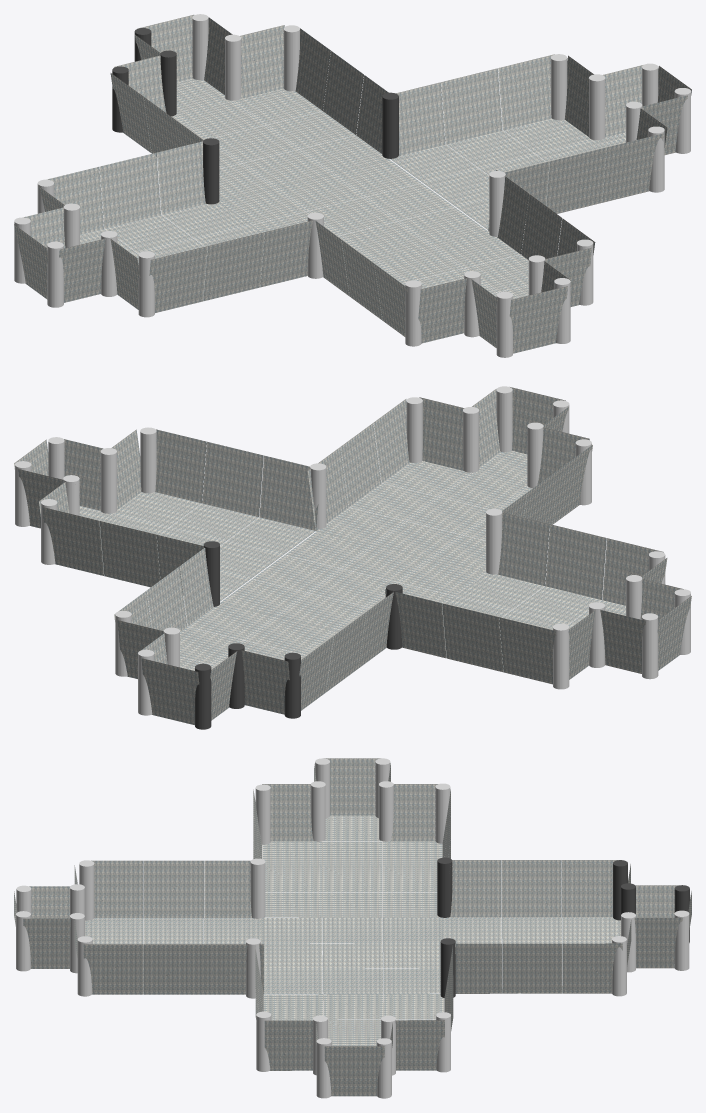
File: map1-convcol.glb
3 views of the same model, one above another, from view 1: azimuth 30°, elevation 25°; view 2: azimuth 150°, elevation 25°; view 3: azimuth 270°, elevation 25° (orthographic). The views are drawn at different scales.
Parts seen in each view (by area): view 1: Plane.069, Plane.019, Plane.071, Plane.018, Plane.068, Plane.016, Plane.021, Plane.070, Plane.058, Plane.030, Plane.067, Plane.017 (+84 smaller); view 2: Plane.018, Plane.068, Plane.066, Plane.019, Plane.067, Plane.069, Plane.017, Plane.071, Plane.020, Plane.047, Plane.028, Plane.021 (+83 smaller); view 3: Plane.062, Plane.024, Plane.063, Plane.025, Plane.060, Plane.061, Plane.023, Plane.027, Plane.022, Plane.003, Plane.074, Plane.064 (+60 smaller).
Part boxes in pixels (x1,y1,x2,y2): Plane.069: (441, 68, 502, 144); Plane.019: (99, 153, 160, 228); Plane.071: (498, 54, 554, 130); Plane.018: (203, 232, 264, 301); Plane.068: (546, 147, 606, 213); Plane.016: (149, 246, 207, 312); Plane.021: (157, 141, 205, 214); Plane.070: (396, 82, 445, 155); Plane.058: (232, 25, 284, 100); Plane.030: (509, 286, 567, 353); Plane.067: (602, 133, 663, 202); Plane.017: (260, 220, 312, 287); Plane.018: (545, 524, 606, 599); Plane.068: (202, 441, 263, 516); Plane.066: (259, 455, 318, 530); Plane.019: (442, 603, 503, 672); Plane.067: (155, 429, 206, 503); Plane.069: (99, 521, 160, 587); Plane.017: (497, 512, 549, 585); Plane.071: (42, 507, 103, 575); Plane.020: (499, 617, 555, 684); Plane.047: (141, 658, 199, 725); Plane.028: (419, 397, 464, 470); Plane.021: (385, 589, 446, 658); Plane.062: (501, 860, 561, 917); Plane.024: (144, 860, 203, 917); Plane.063: (502, 943, 562, 993); Plane.025: (144, 944, 203, 994); Plane.060: (562, 860, 618, 917); Plane.061: (450, 860, 501, 917); Plane.023: (91, 860, 143, 917); Plane.027: (83, 944, 143, 994); Plane.022: (204, 860, 264, 917); Plane.003: (324, 758, 380, 815); Plane.074: (324, 1046, 384, 1096); Plane.064: (562, 943, 622, 993).
Size of the model in its own units: 259 by 22.87 by 257.
Materials: 98 (97 with a texture image).
